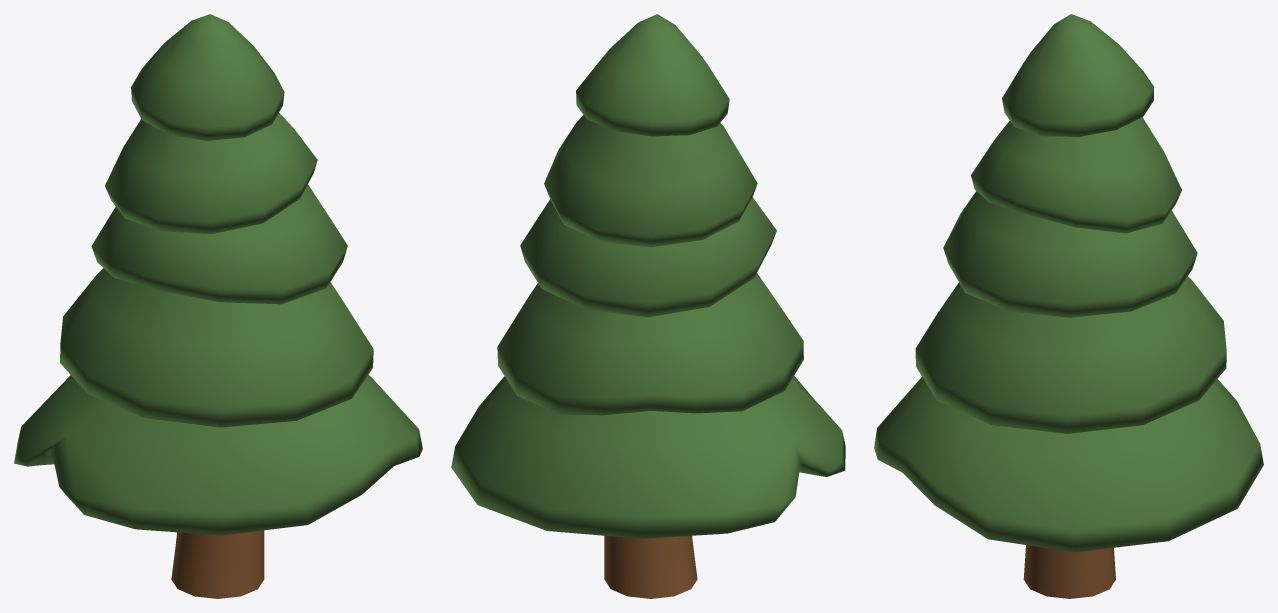
File: 松树圆滑.fbx
The picture shows the model from 3 angles, left to right: view 1: azimuth 30°, elevation 25°; view 2: azimuth 150°, elevation 25°; view 3: azimuth 270°, elevation 25°; orthographic projection.
Visible parts, largest first — view 1: Cylinder.003, Cylinder.002; view 2: Cylinder.003, Cylinder.002; view 3: Cylinder.003, Cylinder.002.
Part boxes in pixels (x1,y1,x2,y2): Cylinder.003: [14, 14, 422, 535]; Cylinder.002: [171, 530, 264, 598]; Cylinder.003: [451, 14, 845, 538]; Cylinder.002: [604, 535, 697, 598]; Cylinder.003: [874, 14, 1263, 552]; Cylinder.002: [1023, 545, 1115, 598].
Size of the model in its own units: 179 by 284 by 178.
